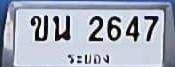2: (88, 15, 102, 41)
4: (125, 15, 138, 41)
6: (106, 15, 120, 40)
7: (143, 15, 158, 41)
A02: (30, 14, 47, 40)
A25: (53, 14, 70, 40)
RYG: (65, 52, 113, 67)
